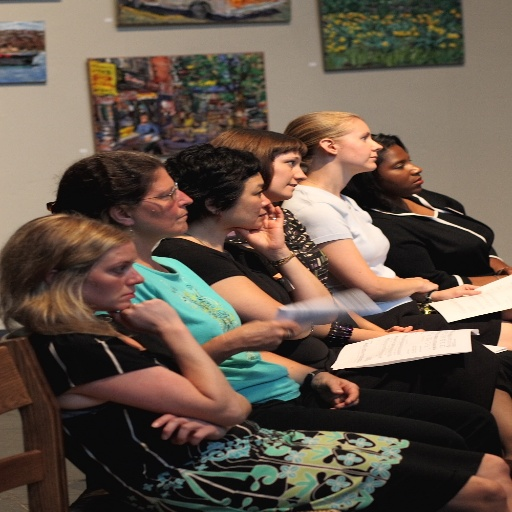hand: (107, 296, 181, 341), (224, 316, 311, 354), (227, 200, 288, 254), (148, 412, 228, 447), (313, 374, 361, 412), (428, 282, 481, 301), (403, 276, 439, 291), (385, 324, 427, 334), (488, 257, 511, 274)
